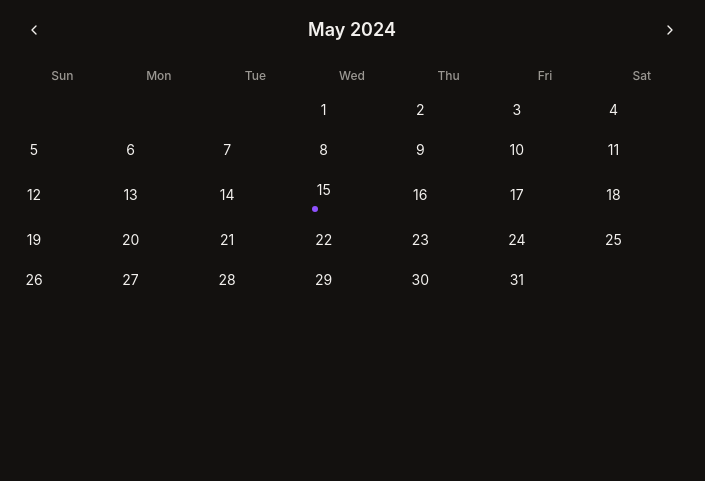
Test: MonthCalendar › displays singular 'year' for age 1
The width and height of the screenshot is (705, 481).
Step 1. Click the button "15" → (352, 195), box [306,172,398,218]
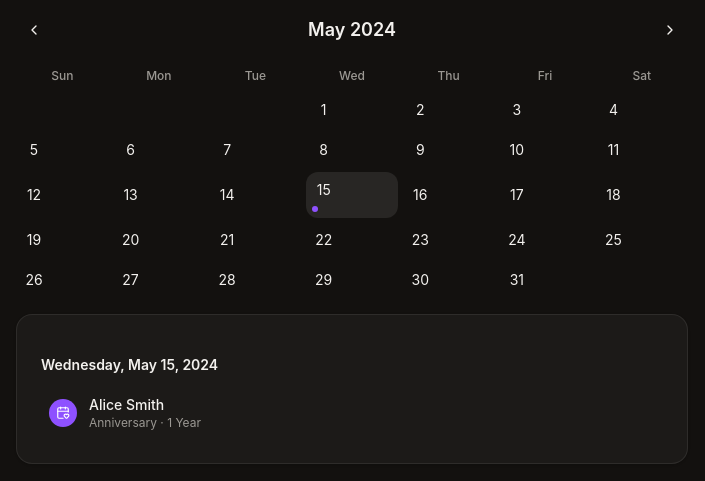
Check: the text "anniversary · 1 year" is shown, box [89,415,201,431]
